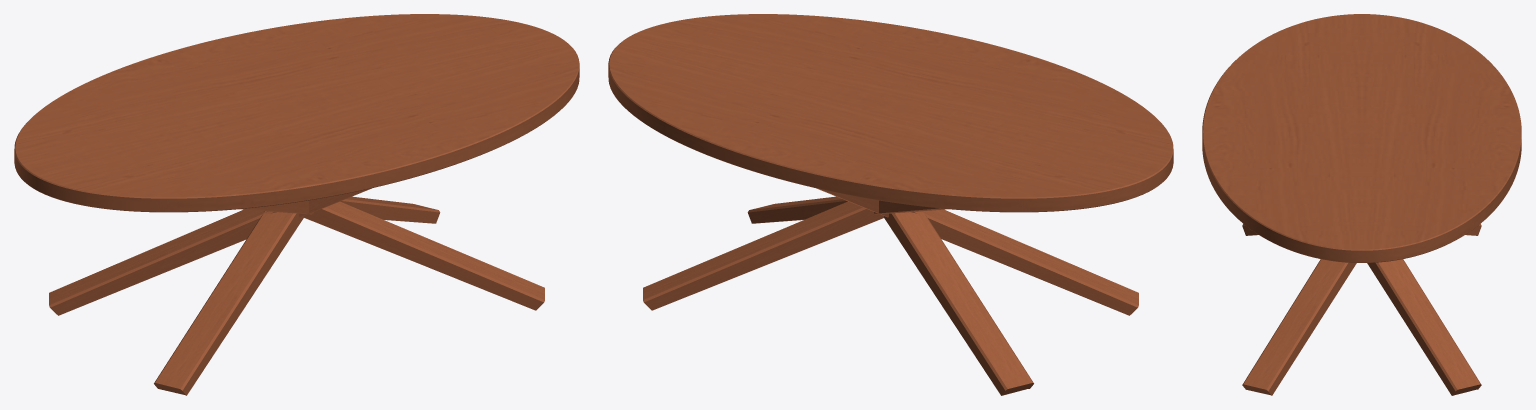
Rendered from ellipse-cherry.glb.
The picture shows the model from 3 angles, left to right: view 1: azimuth 30°, elevation 25°; view 2: azimuth 150°, elevation 25°; view 3: azimuth 270°, elevation 25°; orthographic projection. The views are drawn at different scales.
Visible parts, largest first — view 1: Wood_Ellipse, Base_Ellipse; view 2: Wood_Ellipse, Base_Ellipse; view 3: Wood_Ellipse, Base_Ellipse.
Part boxes in pixels (bbox=[...]): Wood_Ellipse: bbox=[14, 14, 579, 212]; Base_Ellipse: bbox=[49, 188, 544, 395]; Wood_Ellipse: bbox=[608, 14, 1173, 212]; Base_Ellipse: bbox=[643, 188, 1138, 395]; Wood_Ellipse: bbox=[1202, 14, 1521, 262]; Base_Ellipse: bbox=[1242, 224, 1481, 395].
Bounding box in the file's own units: 2.13 × 0.762 × 1.22.
1 material, 1 textured.
